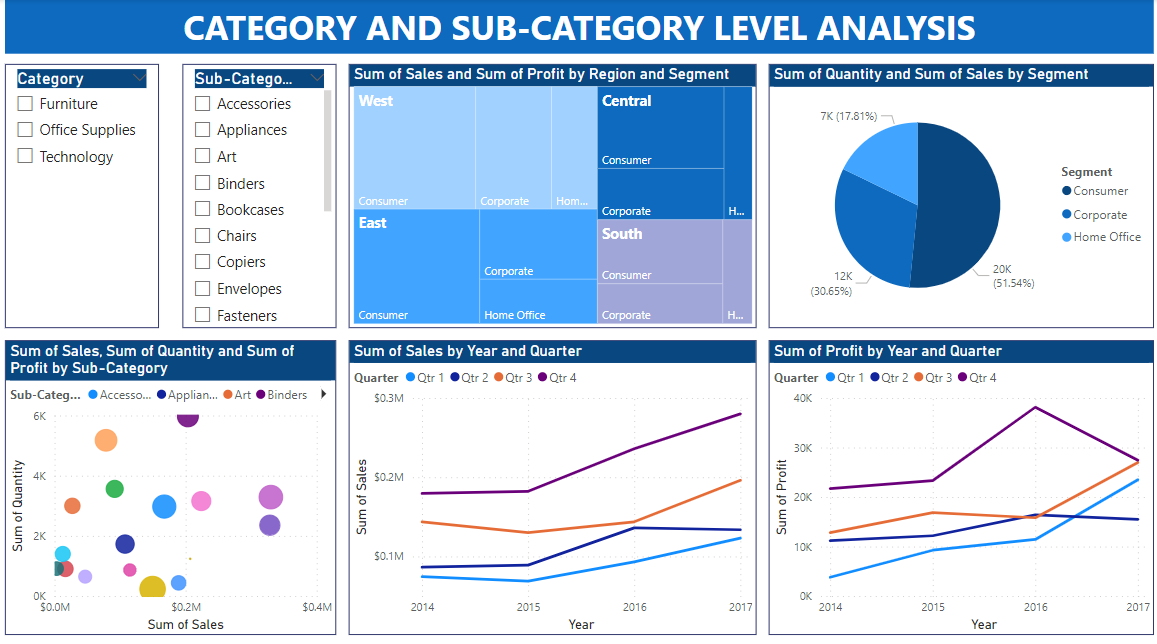

What the dashboard file says about the page in this screenshot:
{"tool":"powerbi","page":{"name":"Category and sub-category","canvas":[1280,720],"ordinal":2},"visuals":[{"type":"textbox","box":[11,0,1260,60.3],"z":0},{"type":"slicer","fields":{"Values":["Orders.Category"]},"box":[11,71.3,168.6,289.3],"z":1},{"type":"slicer","fields":{"Values":["Orders.Sub-Category"]},"box":[205.7,71.3,168.6,289.3],"z":2},{"type":"treemap","fields":{"Group":["Orders.Region"],"Details":["Orders.Segment"],"Values":["Sum(Orders.Sales)"]},"box":[388,71.3,447,289.3],"z":3},{"type":"pieChart","fields":{"Category":["Orders.Segment"],"Y":["Sum(Orders.Quantity)"]},"box":[848.7,71.3,422.3,289.3],"z":4},{"type":"scatterChart","fields":{"Series":["Orders.Sub-Category"],"X":["Sum(Orders.Sales)"],"Y":["Sum(Orders.Quantity)"],"Size":["Sum(Orders.Profit)"]},"box":[11,374.3,363.3,323.6],"z":5},{"type":"lineChart","fields":{"Category":["Orders.Year"],"Series":["Orders.Quarter"],"Y":["Sum(Orders.Profit)"]},"box":[848.7,374.3,422.3,323.6],"z":6},{"type":"lineChart","fields":{"Category":["Orders.Year"],"Series":["Orders.Quarter"],"Y":["Sum(Orders.Sales)"]},"box":[388,374.3,447,323.6],"z":7}]}

Visuals, with their boxes in screenshot pixels (x1, y1, x2, y2), scaled from the page's 1280x720 canvas onto the 1157x644 screenshot:
textbox: [10, 0, 1149, 54]
slicer - Orders.Category: [10, 64, 162, 323]
slicer - Orders.Sub-Category: [186, 64, 338, 323]
treemap - Orders.Region x Orders.Segment: [351, 64, 755, 323]
pieChart - Orders.Segment x Sum(Orders.Quantity): [767, 64, 1149, 323]
scatterChart - Orders.Sub-Category x Sum(Orders.Sales): [10, 335, 338, 624]
lineChart - Orders.Year x Orders.Quarter: [767, 335, 1149, 624]
lineChart - Orders.Year x Orders.Quarter: [351, 335, 755, 624]
